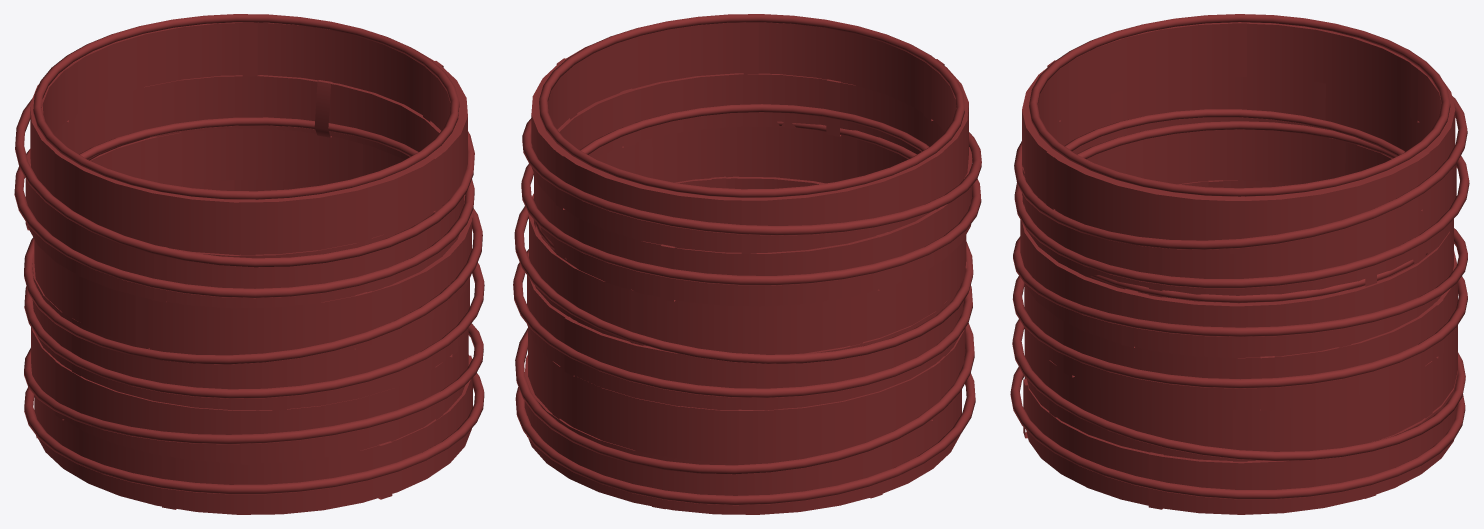
Rendered from SM_WiresPack06.fbx.
The picture shows the model from 3 angles, left to right: view 1: azimuth 30°, elevation 25°; view 2: azimuth 150°, elevation 25°; view 3: azimuth 270°, elevation 25°; orthographic projection.
Visible parts, largest first — view 1: WiresPack06; view 2: WiresPack06; view 3: WiresPack06.
Part boxes in pixels (<box>): WiresPack06: <box>14,14,484,514</box>; WiresPack06: <box>513,14,981,514</box>; WiresPack06: <box>1010,14,1469,514</box>.
Bounding box in the file's own units: 85.69 × 64.93 × 84.5.
